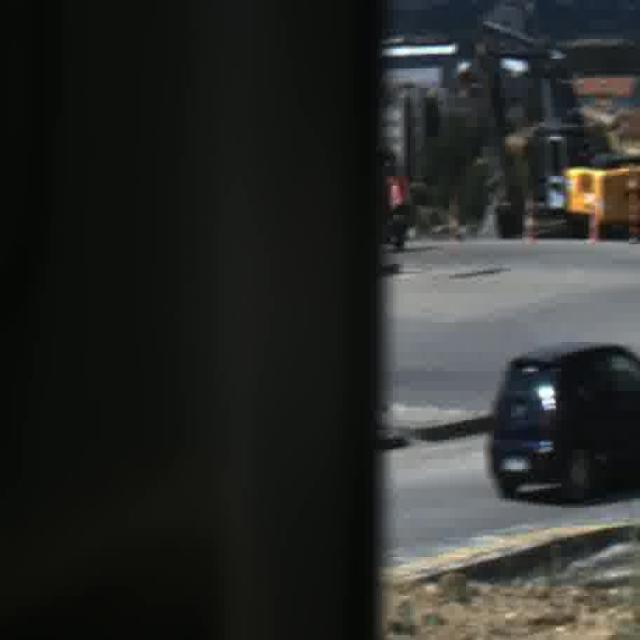Car: (486, 340, 638, 500)
Motorcycle: (382, 164, 411, 254)
